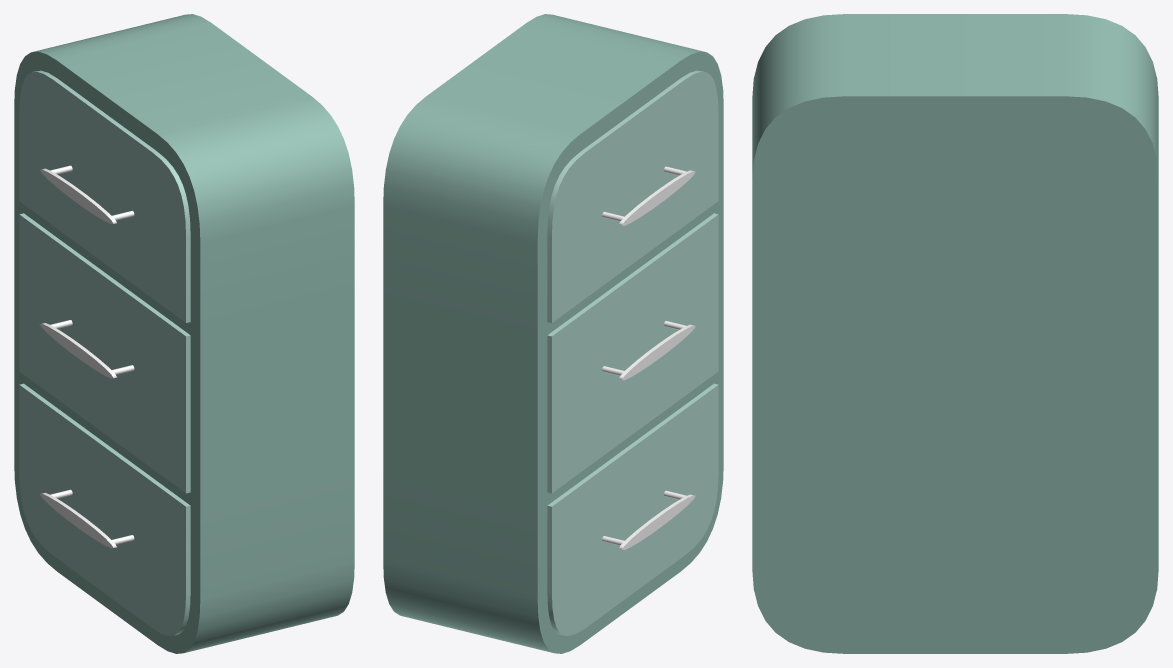
File: Drawers_HorizontalHandle.fbx
The picture shows the model from 3 angles, left to right: view 1: azimuth 30°, elevation 25°; view 2: azimuth 150°, elevation 25°; view 3: azimuth 270°, elevation 25°; orthographic projection. The views are drawn at different scales.
Visible parts, largest first — view 1: Frame, DrawerMiddle, DrawerBottom, DrawerTop, Handle, Handle_2, Handle_1; view 2: Frame, DrawerMiddle, DrawerTop, DrawerBottom, Handle, Handle_2, Handle_1; view 3: Frame.
Boxes of the visible parts, x1,y1,x2,y2 form: Frame: (14, 14, 354, 653); DrawerMiddle: (19, 213, 190, 493); DrawerBottom: (19, 383, 190, 635); DrawerTop: (19, 70, 190, 322); Handle: (40, 165, 134, 224); Handle_2: (40, 320, 134, 378); Handle_1: (40, 489, 134, 548); Frame: (383, 14, 723, 653); DrawerMiddle: (547, 213, 718, 493); DrawerTop: (547, 70, 718, 322); DrawerBottom: (547, 383, 718, 635); Handle: (602, 166, 695, 225); Handle_2: (602, 321, 695, 380); Handle_1: (602, 490, 695, 549); Frame: (752, 14, 1158, 653).
Size of the model in its own units: 114 by 303 by 200.
